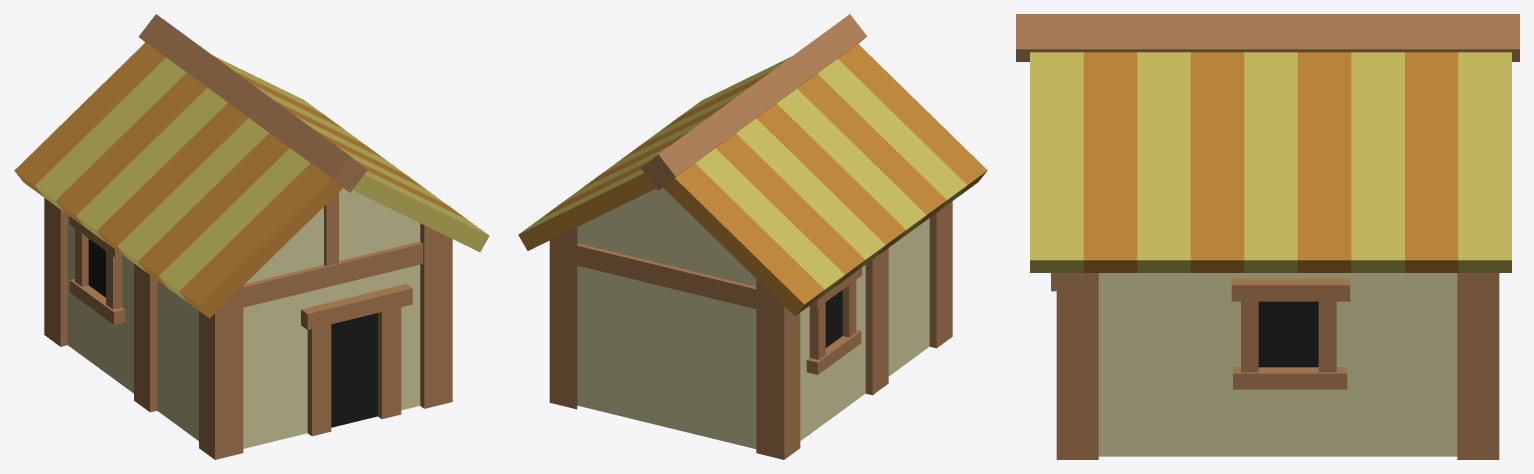
File: PeasantHouseT1lv1.fbx
3 renders of one model, left to right at view 1: azimuth 30°, elevation 25°; view 2: azimuth 150°, elevation 25°; view 3: azimuth 270°, elevation 25°, orthographic. The views are drawn at different scales.
Parts seen in each view (by area): view 1: Cube.144, Cube, Cube.013, Cube.001, Cube.002, Cube.022, Cube.006, Cube.004, Cube.005, Cube.007, Cube.008, Cube.009 (+5 smaller); view 2: Cube.144, Cube, Cube.013, Cube.004, Cube.003, Cube.011, Cube.005, Cube.001, Cube.055, Cube.057, Cube.059, Cube.058; view 3: Cube.144, Cube, Cube.013, Cube.003, Cube.002, Cube.025, Cube.034, Cube.017, Cube.014, Cube.015.
Part boxes in pixels (x1,y1,x2,y2): Cube.144: (14, 42, 489, 318); Cube: (67, 188, 420, 448); Cube.013: (138, 14, 367, 192); Cube.001: (199, 286, 243, 459); Cube.002: (420, 223, 452, 408); Cube.022: (331, 313, 377, 427); Cube.006: (243, 241, 423, 307); Cube.004: (44, 198, 67, 346); Cube.005: (134, 263, 157, 412); Cube.007: (307, 324, 331, 436); Cube.008: (378, 307, 401, 418); Cube.009: (301, 284, 412, 329); Cube.144: (518, 44, 987, 315); Cube: (577, 187, 929, 448); Cube.013: (641, 14, 867, 190); Cube.004: (756, 279, 800, 459); Cube.003: (549, 227, 577, 409); Cube.011: (577, 243, 756, 308); Cube.005: (865, 248, 888, 395); Cube.001: (929, 201, 952, 348); Cube.055: (806, 329, 861, 374); Cube.057: (809, 302, 825, 359); Cube.059: (825, 290, 842, 347); Cube.058: (842, 280, 856, 337); Cube.144: (1030, 52, 1511, 272); Cube: (1098, 273, 1457, 456); Cube.013: (1016, 14, 1519, 61); Cube.003: (1457, 273, 1499, 459); Cube.002: (1056, 273, 1098, 459); Cube.025: (1258, 301, 1318, 367); Cube.034: (1231, 278, 1350, 301); Cube.017: (1233, 367, 1347, 389); Cube.014: (1318, 301, 1336, 372); Cube.015: (1241, 301, 1258, 372).
Bounding box in the file's own units: 515 × 486 × 598.
